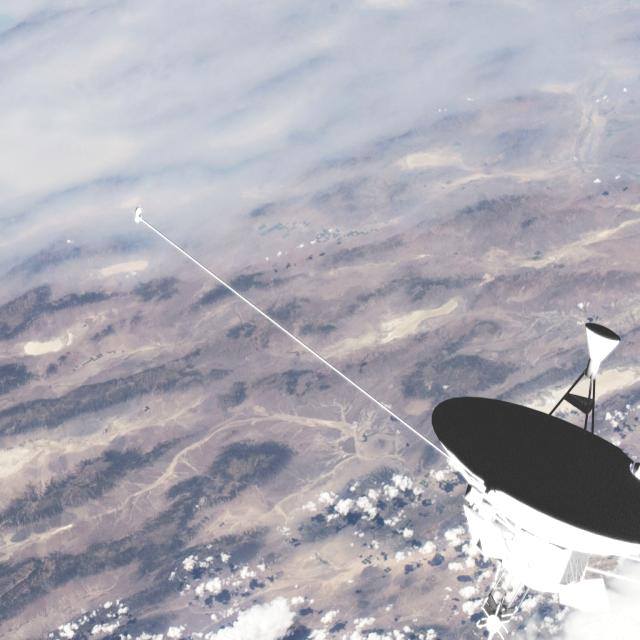satellite: (121, 194, 640, 629)
